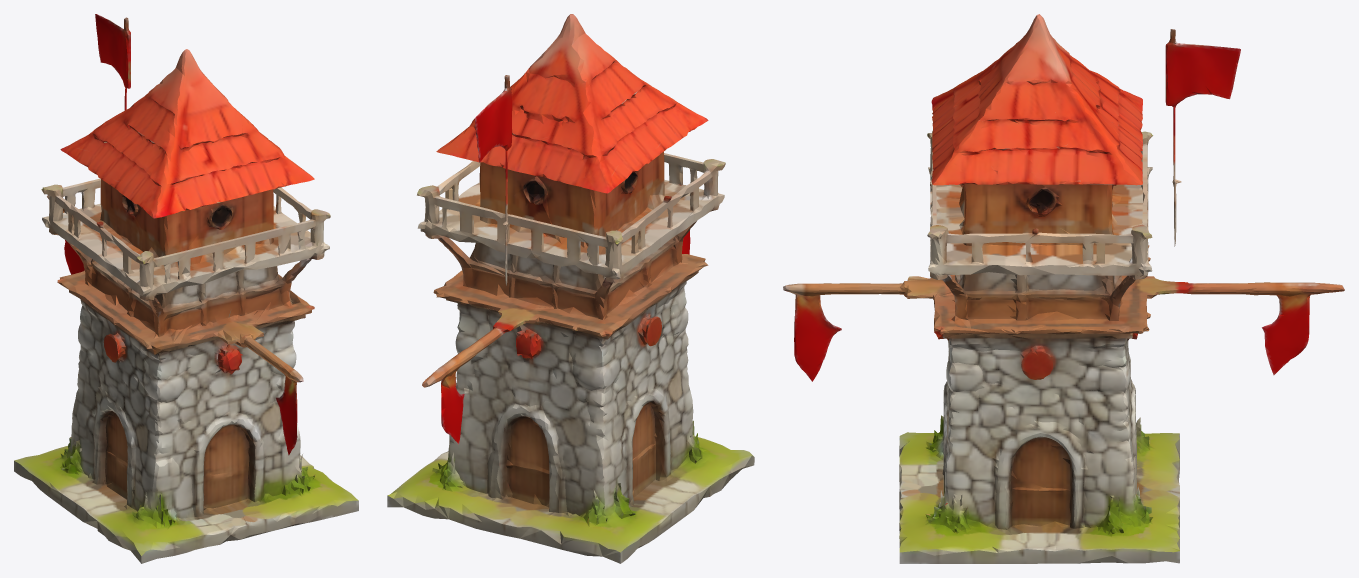
File: human_tower.glb
3 views of the same model, side by side, from view 1: azimuth 30°, elevation 25°; view 2: azimuth 150°, elevation 25°; view 3: azimuth 270°, elevation 25° (orthographic). The views are drawn at different scales.
Visible parts, largest first — view 1: human_tower; view 2: human_tower; view 3: human_tower.
Part boxes in pixels (box(x1,y1,x2,y2)): human_tower: box(14, 14, 358, 563); human_tower: box(387, 14, 754, 563); human_tower: box(783, 14, 1344, 563).
Size of the model in its own units: 0.9444 by 1.83 by 1.9.
Materials: 1 (1 with a texture image).
